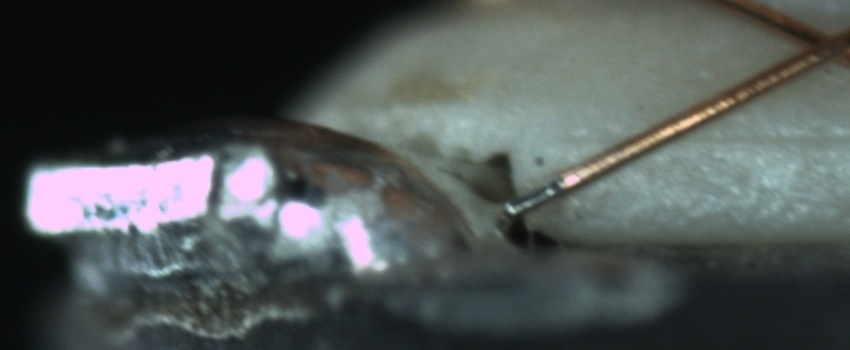CL: (778, 12, 850, 76)
DL: (601, 106, 848, 171)
TS: (505, 181, 564, 216)
TTCW: (507, 172, 578, 218)
